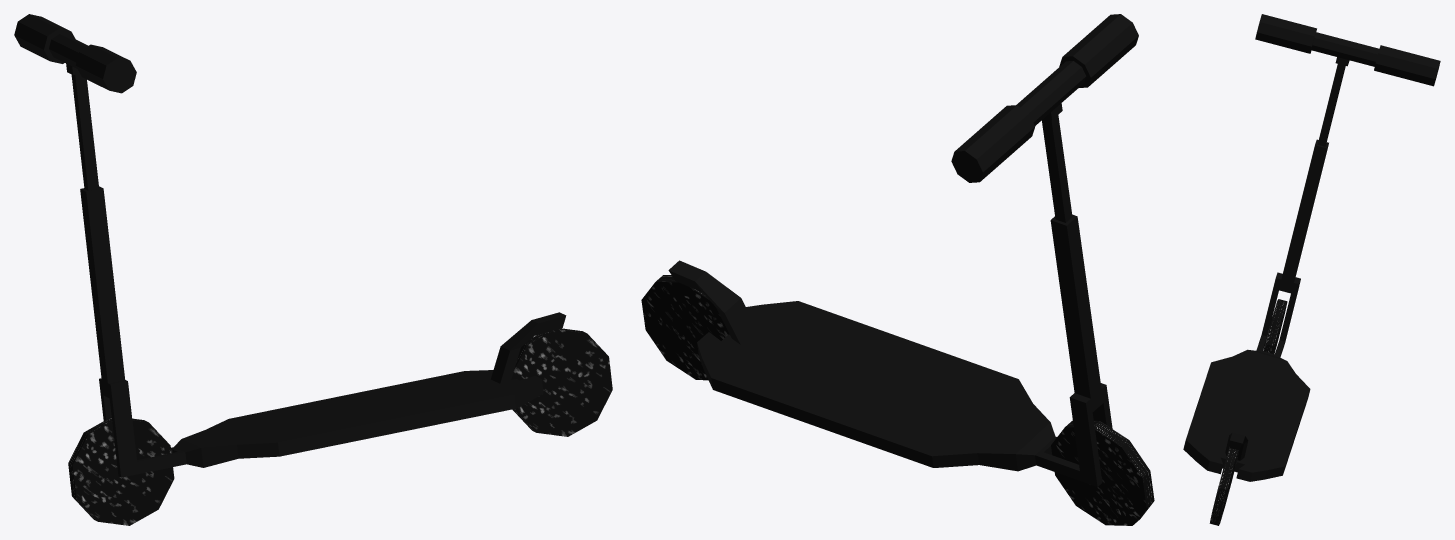
File: ColladaScooter.dae
3 renders of one model, left to right at view 1: azimuth 30°, elevation 25°; view 2: azimuth 150°, elevation 25°; view 3: azimuth 270°, elevation 25°, orthographic. The views are drawn at different scales.
Visible parts, largest first — view 1: Body, Wheels; view 2: Body, Wheels; view 3: Body, Wheels.
Part boxes in pixels (<box>): Body: <box>14,14,566,477</box>; Wheels: <box>68,328,612,525</box>; Body: <box>668,14,1138,486</box>; Wheels: <box>641,275,1154,525</box>; Body: <box>1183,14,1440,481</box>; Wheels: <box>1209,299,1287,525</box>.
Size of the model in its own units: 148 by 133 by 85.9.
